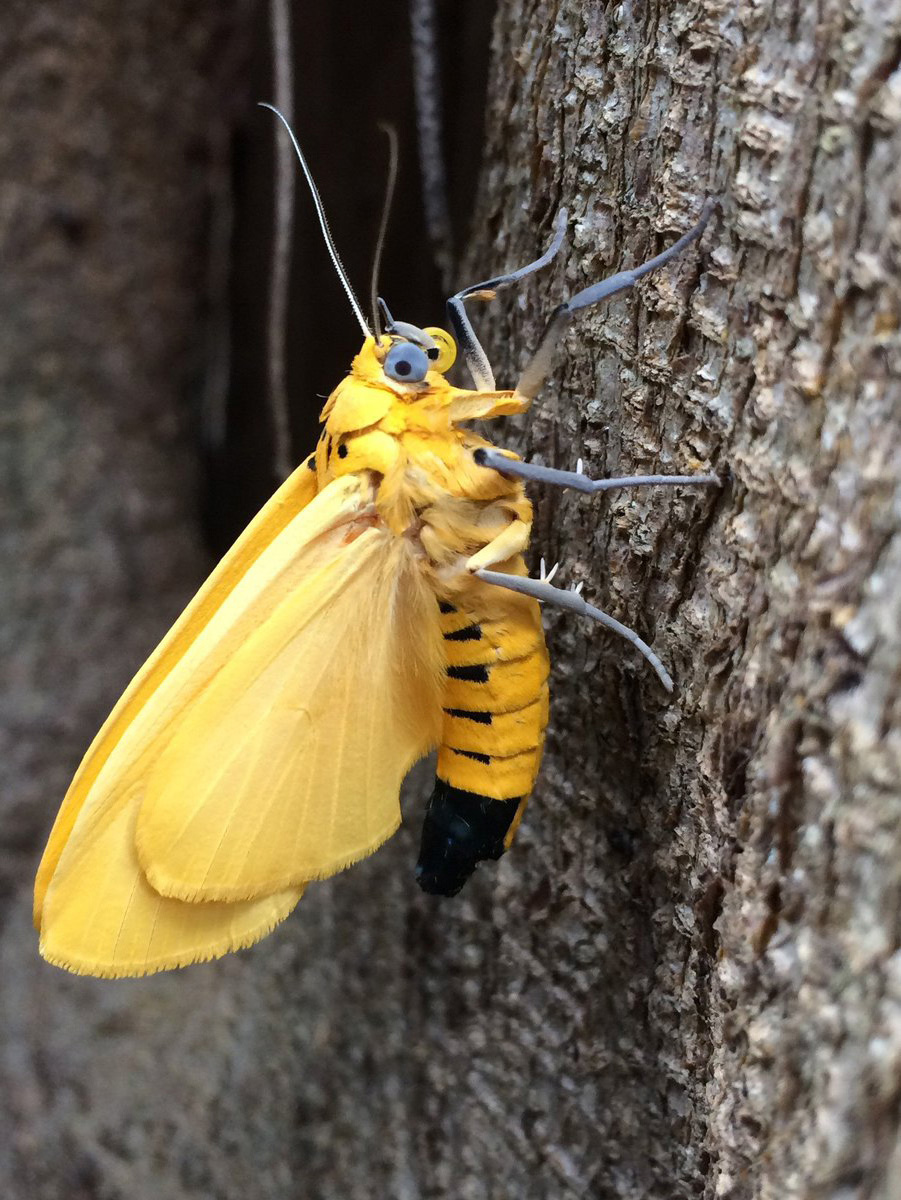Agape chloropyga: (21, 100, 721, 984)
moth: (19, 98, 719, 982)
